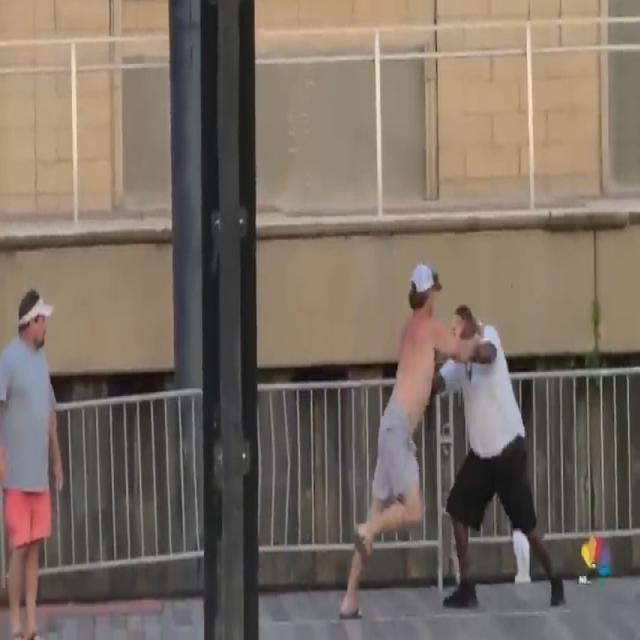fight: (345, 261, 565, 628)
